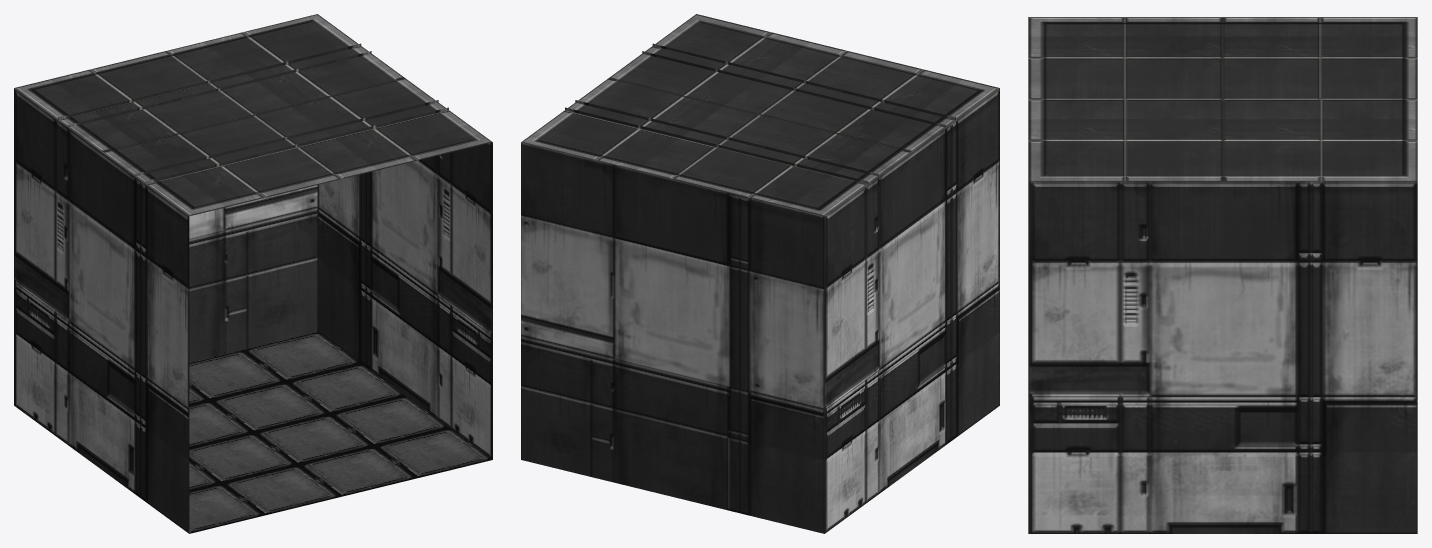
The model's file is CorridorCap4.fbx.
The picture shows the model from 3 angles, left to right: view 1: azimuth 30°, elevation 25°; view 2: azimuth 150°, elevation 25°; view 3: azimuth 270°, elevation 25°; orthographic projection. The views are drawn at different scales.
Parts seen in each view (by area): view 1: CorridorCap4; view 2: CorridorCap4; view 3: CorridorCap4.
Boxes of the visible parts, left/top/right/bottom form: CorridorCap4: left=14, top=14, right=492, bottom=533; CorridorCap4: left=521, top=14, right=999, bottom=533; CorridorCap4: left=1028, top=17, right=1417, bottom=533.
Bounding box in the file's own units: 5 × 5.04 × 5.
